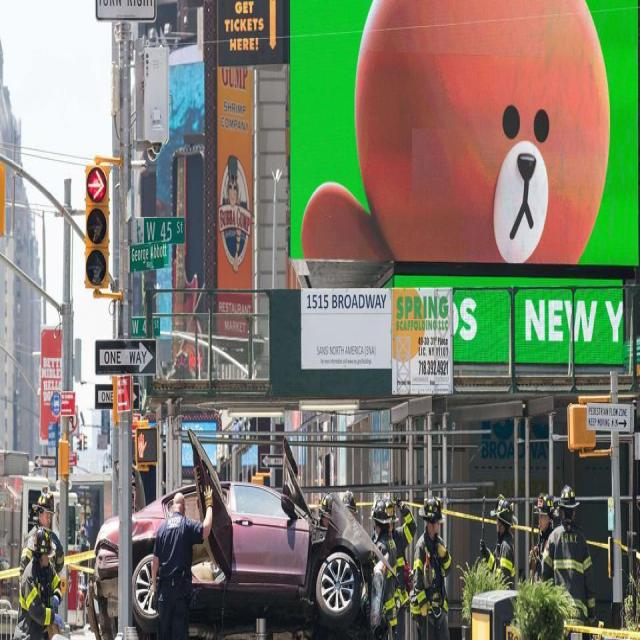body: (324, 463, 389, 638), (150, 481, 215, 639), (541, 484, 598, 630), (365, 491, 418, 638), (406, 492, 454, 639), (12, 525, 66, 640), (18, 490, 65, 580), (371, 499, 398, 639), (479, 498, 516, 591), (528, 491, 558, 584), (71, 508, 98, 557)
